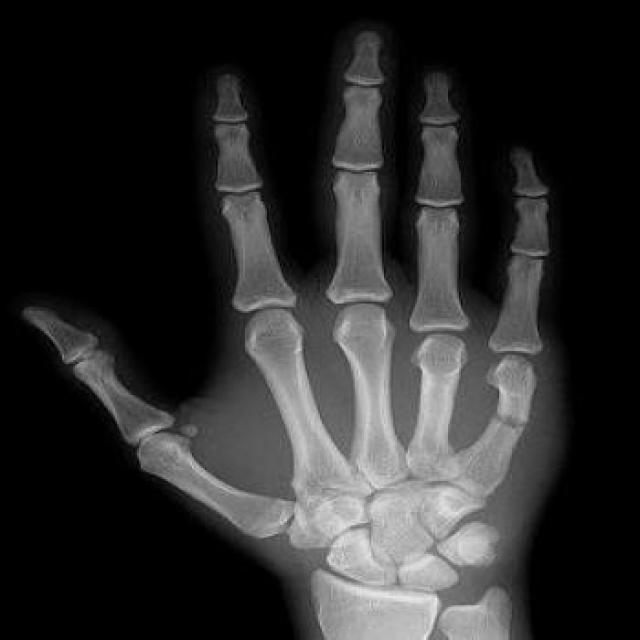Fracture: (479, 398, 540, 442)
